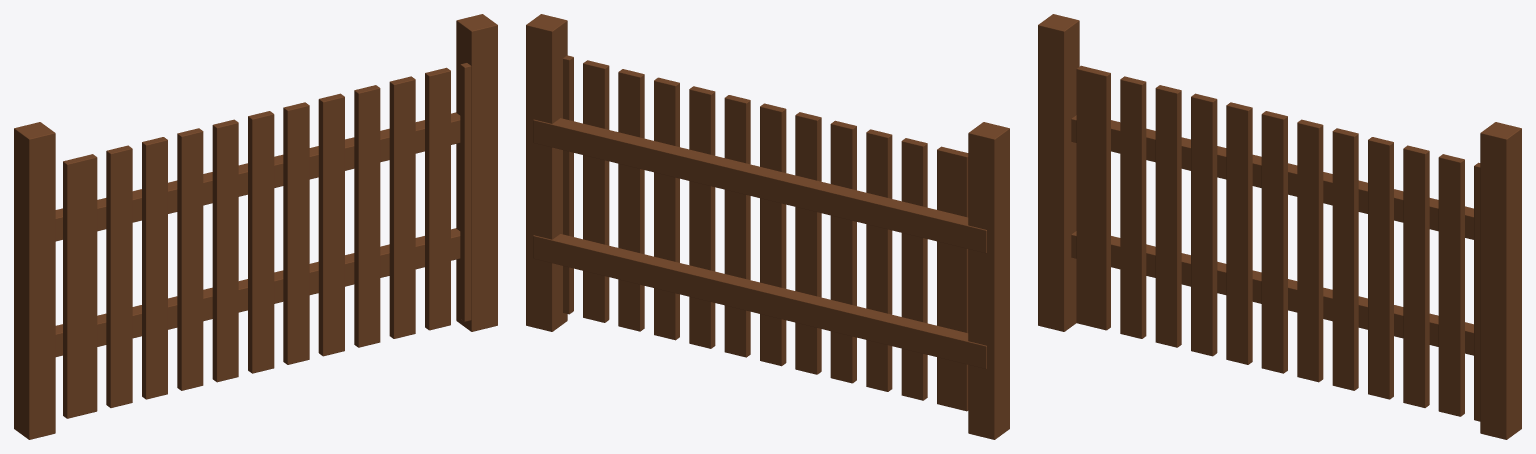
Rendered from source-edit.glb.
The picture shows the model from 3 angles, left to right: view 1: azimuth 30°, elevation 25°; view 2: azimuth 150°, elevation 25°; view 3: azimuth 330°, elevation 25°; orthographic projection.
Visible parts, largest first — view 1: Post, Post.001, Picket_8, Picket_7, Picket_9, Picket_10, Picket_2, Picket_4, Picket_5, Picket_6, Picket_11, Picket_3 (+5 smaller); view 2: Rail.001, Rail, Post, Post.001, Picket_7, Picket_8, Picket_6, Picket_10, Picket_5, Picket_2, Picket_4, Picket_11 (+5 smaller); view 3: Post.001, Post, Picket_4, Picket_3, Picket_5, Picket_10, Picket_11, Picket_2, Picket_7, Picket_8, Picket_6, Picket_9 (+5 smaller).
Part boxes in pixels (x1,y1,x2,y2): Post: (14,122,55,439); Post.001: (456,14,497,331); Picket_8: (318,93,344,356); Picket_7: (283,102,309,364); Picket_9: (354,85,380,347); Picket_10: (389,76,415,338); Picket_2: (106,145,132,407); Picket_4: (177,128,203,390); Picket_5: (212,119,238,382); Picket_6: (248,111,274,373); Picket_11: (425,67,450,330); Picket_3: (142,137,167,399); Rail.001: (533,118,986,253); Rail: (533,234,986,368); Post: (968,122,1009,439); Post.001: (526,14,567,331); Picket_7: (724,95,750,357); Picket_8: (689,86,715,348); Picket_6: (760,103,786,366); Picket_10: (618,69,644,331); Picket_5: (795,112,821,374); Picket_2: (901,138,927,400); Picket_4: (830,120,856,383); Picket_11: (583,60,609,322); Post.001: (1480,122,1521,439); Post: (1038,14,1079,331); Picket_4: (1191,93,1217,356); Picket_3: (1155,85,1181,347); Picket_5: (1226,102,1252,364); Picket_10: (1403,145,1429,407); Picket_11: (1438,154,1464,416); Picket_2: (1120,76,1146,338); Picket_7: (1297,119,1323,382); Picket_8: (1332,128,1358,390); Picket_6: (1261,111,1287,373); Picket_9: (1368,137,1393,399).
Bounding box in the file's own units: 2.12 × 1.3 × 0.125.
